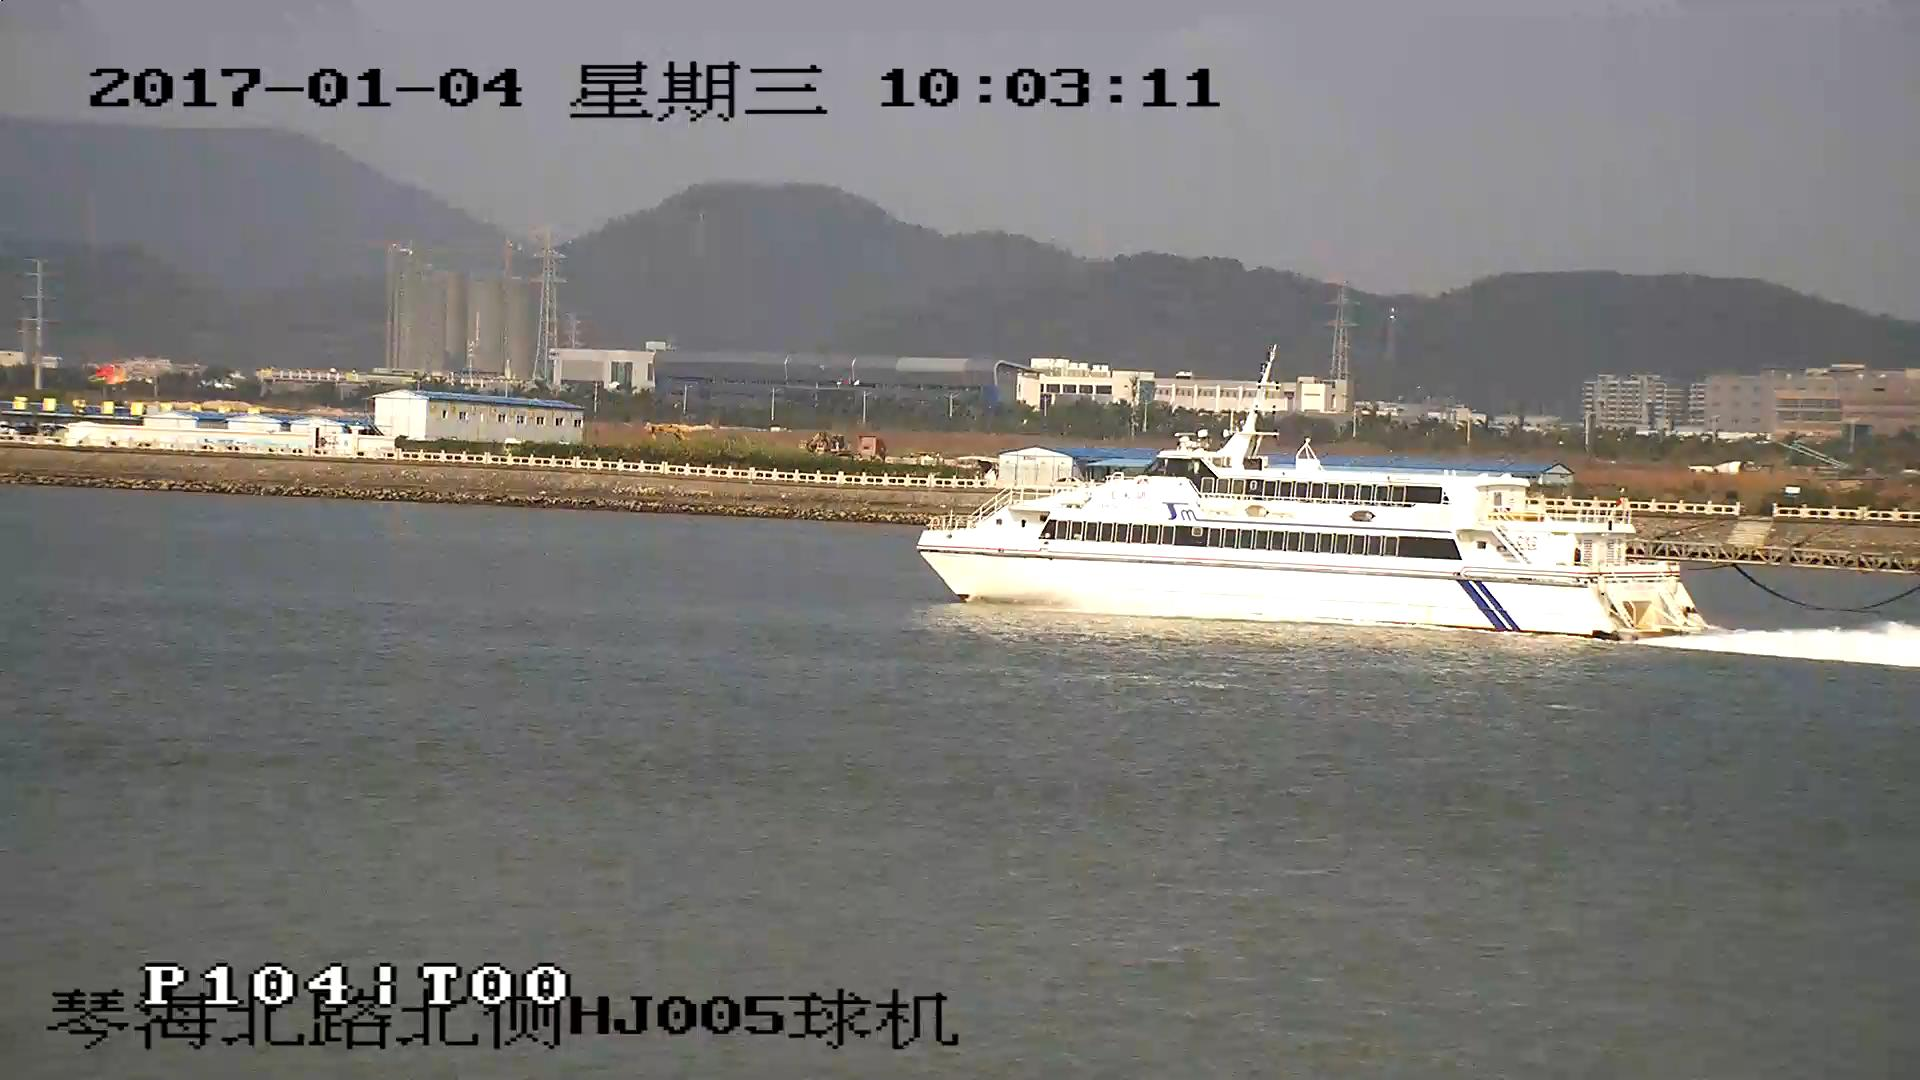passenger ship: (920, 354, 1704, 642)
